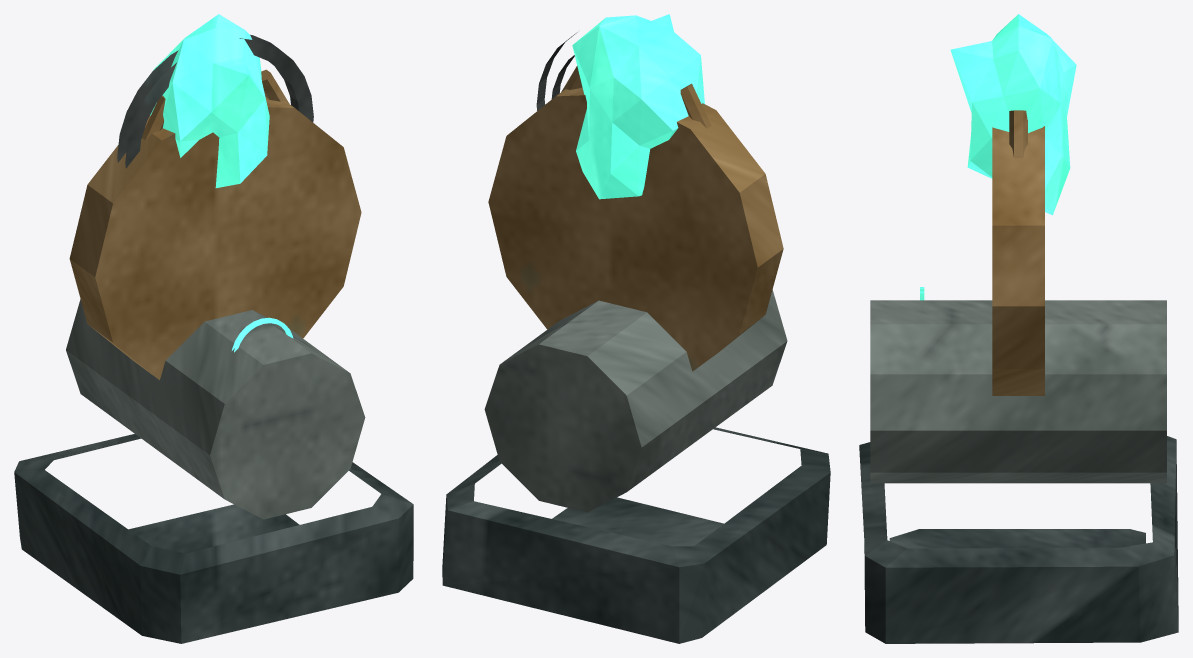
File: 0589_relic_pedestal_14.glb
The picture shows the model from 3 angles, left to right: view 1: azimuth 30°, elevation 25°; view 2: azimuth 150°, elevation 25°; view 3: azimuth 270°, elevation 25°; orthographic projection. The views are drawn at different scales.
Visible parts, largest first — view 1: brass, stone_dark, stone, glow, iron; view 2: brass, stone_dark, stone, glow, iron; view 3: stone, stone_dark, brass, glow.
Boxes of the visible parts, left/top/right/bottom form: brass: left=69, top=69, right=361, bottom=379; stone_dark: left=14, top=434, right=413, bottom=643; stone: left=66, top=299, right=365, bottom=519; glow: left=150, top=14, right=293, bottom=352; iron: left=117, top=34, right=313, bottom=168; brass: left=488, top=66, right=783, bottom=371; stone_dark: left=442, top=427, right=830, bottom=643; stone: left=484, top=290, right=787, bottom=512; glow: left=572, top=14, right=704, bottom=199; iron: left=536, top=32, right=577, bottom=110; stone: left=870, top=300, right=1166, bottom=483; stone_dark: left=859, top=436, right=1178, bottom=643; brass: left=992, top=110, right=1044, bottom=395; glow: left=920, top=14, right=1076, bottom=300.
Bounding box in the file's own units: 0.966 × 1.87 × 0.9703.
5 materials, 5 textured.
